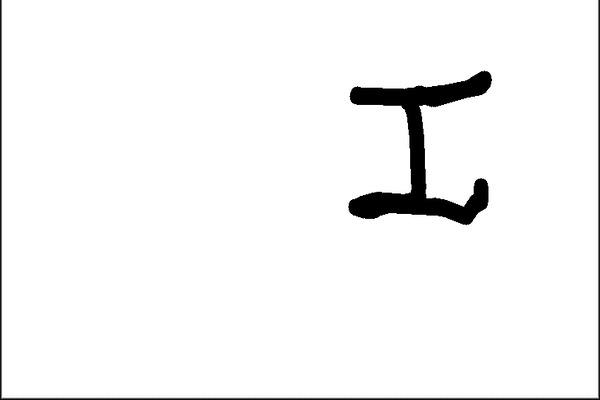i: (337, 67, 501, 232)
